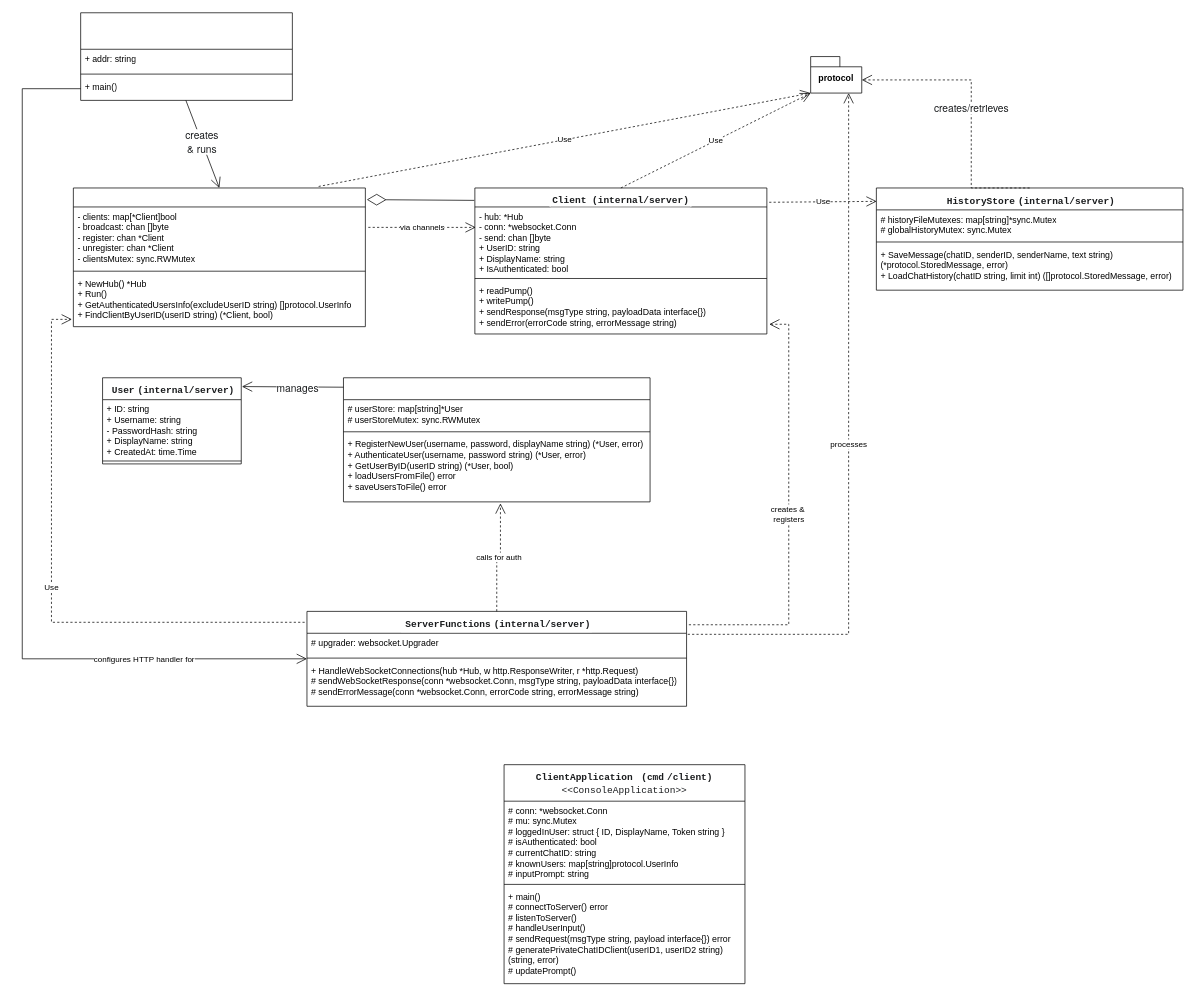
Image size: 1196x999. Some labels were removed from this diagram. The shapes that lost their labels are listed below. From the top down, each one's box as (x1, y1, x2, y2) in pixels, then its label:
(80, 12, 292, 100): MainApplication (cmd /server) <<EntryPoint>>
(73, 187, 365, 327): Hub (inernal/server)
(343, 377, 650, 502): AuthStore (internal/server)
